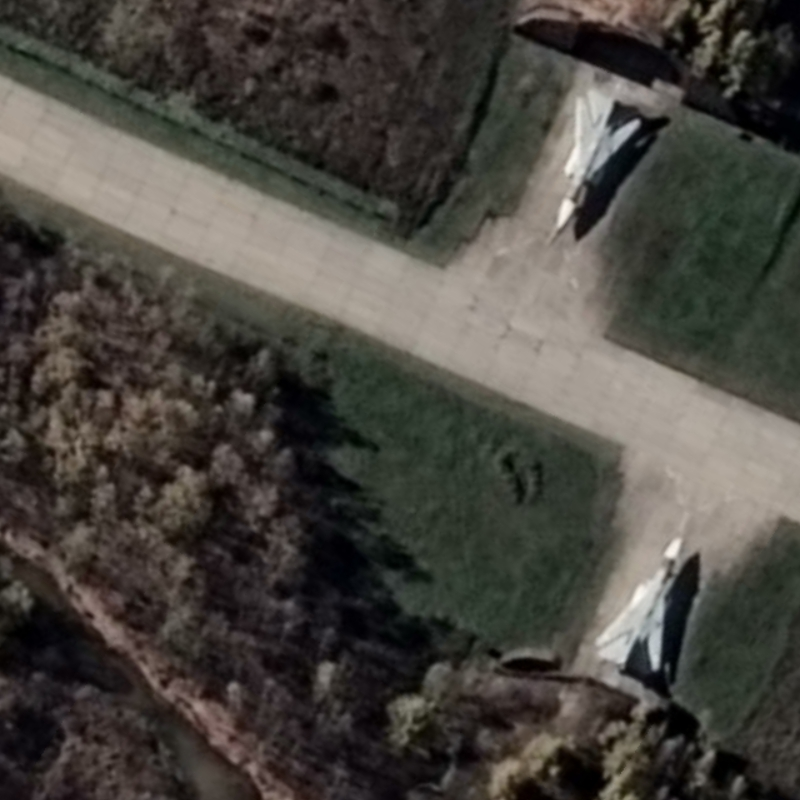A20: (592, 535, 686, 679), (554, 87, 643, 233)
